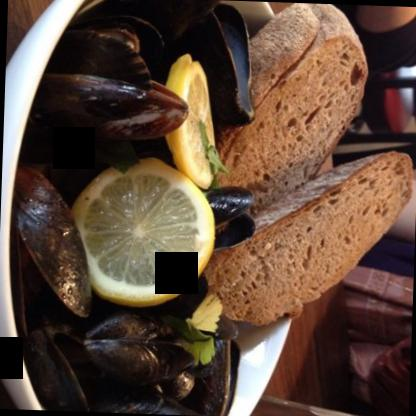bread: (191, 138, 415, 334), (212, 4, 360, 214)
lemon: (70, 160, 214, 306)
